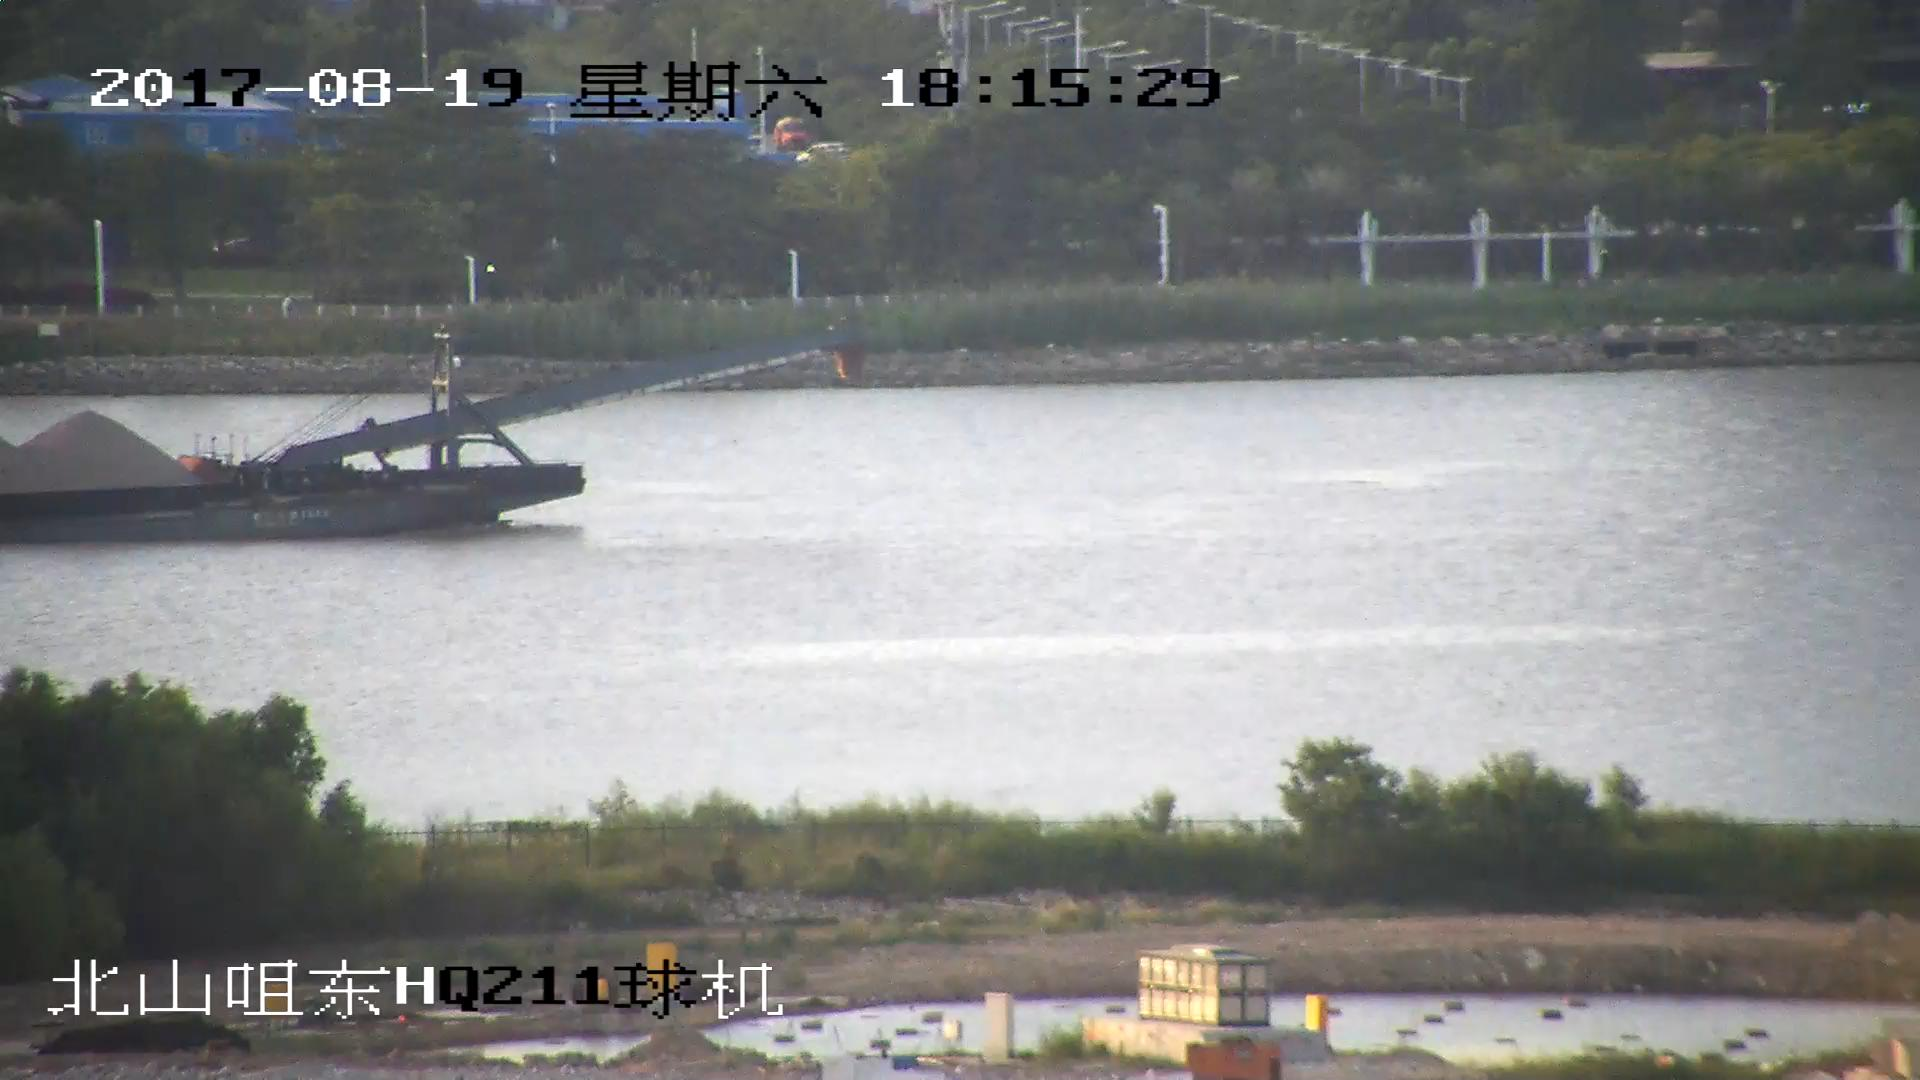ore carrier: (1, 320, 852, 544)
